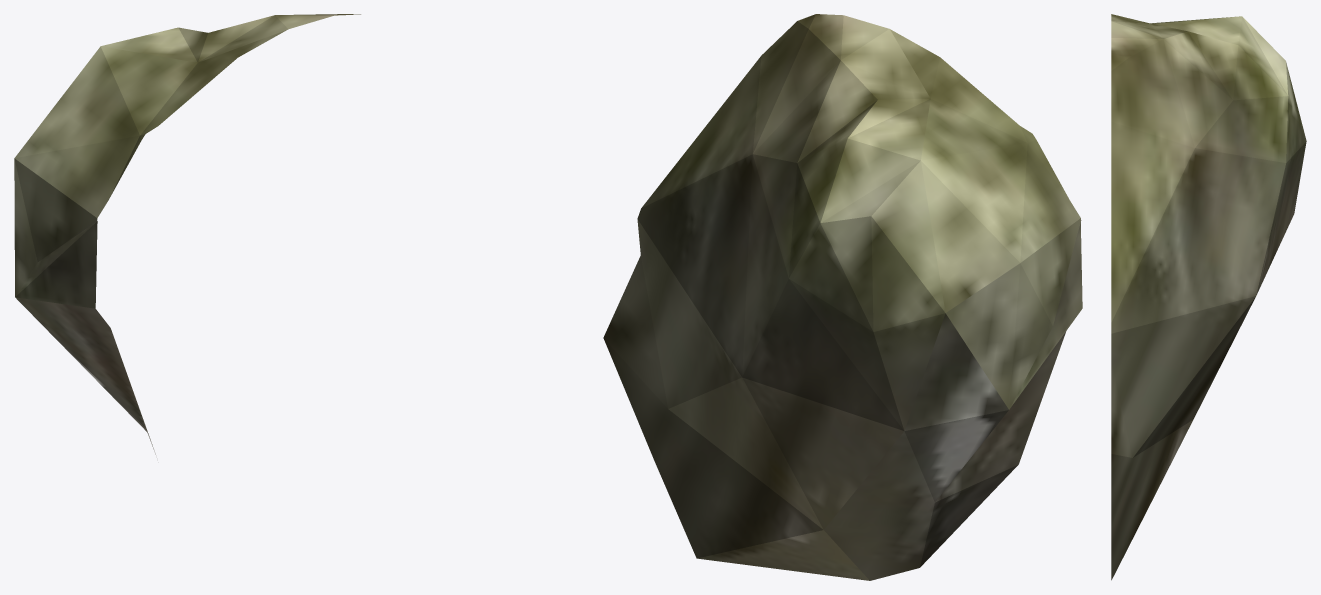
The picture shows the model from 3 angles, left to right: view 1: azimuth 30°, elevation 25°; view 2: azimuth 150°, elevation 25°; view 3: azimuth 270°, elevation 25°; orthographic projection. The views are drawn at different scales.
Size of the model in its own units: 0.7323 by 0.8214 by 0.3008.
Materials: 1 (1 with a texture image).
